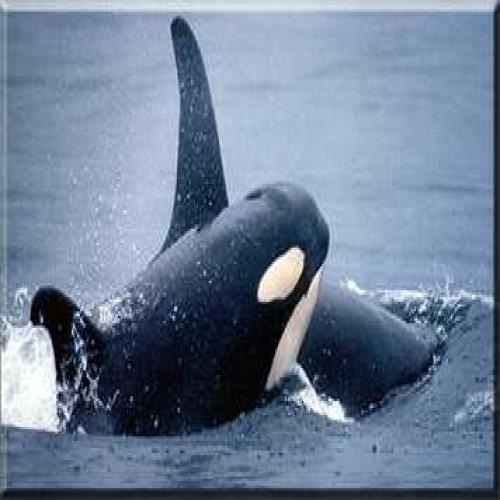killer_whale-endangered: (144, 6, 458, 431), (33, 168, 347, 446)
